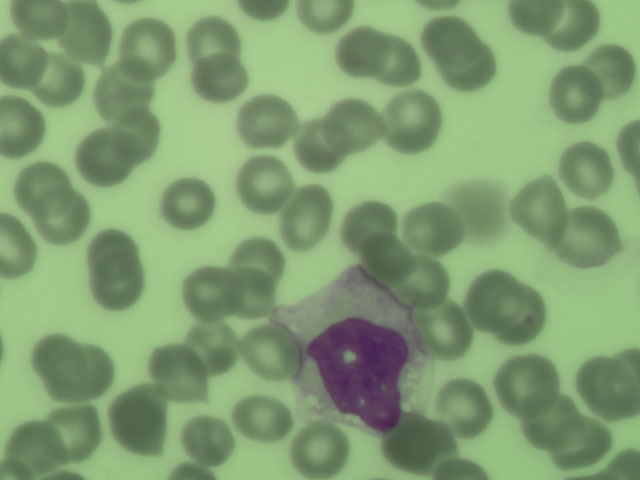RBC: (239, 93, 294, 146), (1, 93, 46, 157), (164, 178, 215, 229), (562, 210, 613, 261), (516, 184, 567, 235), (444, 42, 495, 93), (423, 13, 474, 64), (78, 134, 129, 185), (112, 109, 163, 160), (96, 64, 147, 115), (500, 288, 551, 339), (408, 201, 459, 252), (467, 273, 518, 324), (389, 415, 440, 466), (438, 383, 489, 434), (418, 305, 469, 356), (400, 256, 451, 307), (361, 233, 412, 284), (342, 196, 393, 247), (283, 191, 334, 242), (241, 158, 292, 209), (385, 95, 436, 146), (329, 99, 380, 150), (294, 119, 345, 170), (375, 35, 426, 86), (336, 25, 387, 76), (194, 52, 245, 103), (189, 15, 240, 66), (34, 54, 85, 105), (64, 2, 115, 53), (120, 23, 171, 74), (235, 232, 286, 283), (226, 270, 277, 321), (185, 267, 236, 318), (244, 326, 295, 377), (185, 318, 236, 369), (293, 427, 344, 478), (234, 388, 285, 439), (181, 414, 232, 465), (150, 346, 201, 397), (112, 396, 163, 447), (49, 408, 100, 459), (7, 425, 58, 476), (66, 343, 117, 394), (34, 336, 85, 387), (92, 258, 143, 309), (87, 226, 138, 277), (38, 190, 89, 241), (14, 162, 65, 213), (560, 143, 611, 194), (581, 360, 632, 411), (561, 417, 612, 468), (523, 391, 574, 442), (500, 358, 551, 409), (548, 66, 599, 117), (548, 1, 599, 51), (1, 34, 49, 85), (1, 211, 38, 277), (291, 1, 356, 33), (11, 1, 65, 37), (588, 46, 631, 90), (509, 1, 564, 35), (615, 114, 640, 186), (432, 454, 487, 479)
WBC: (296, 297, 419, 433)
